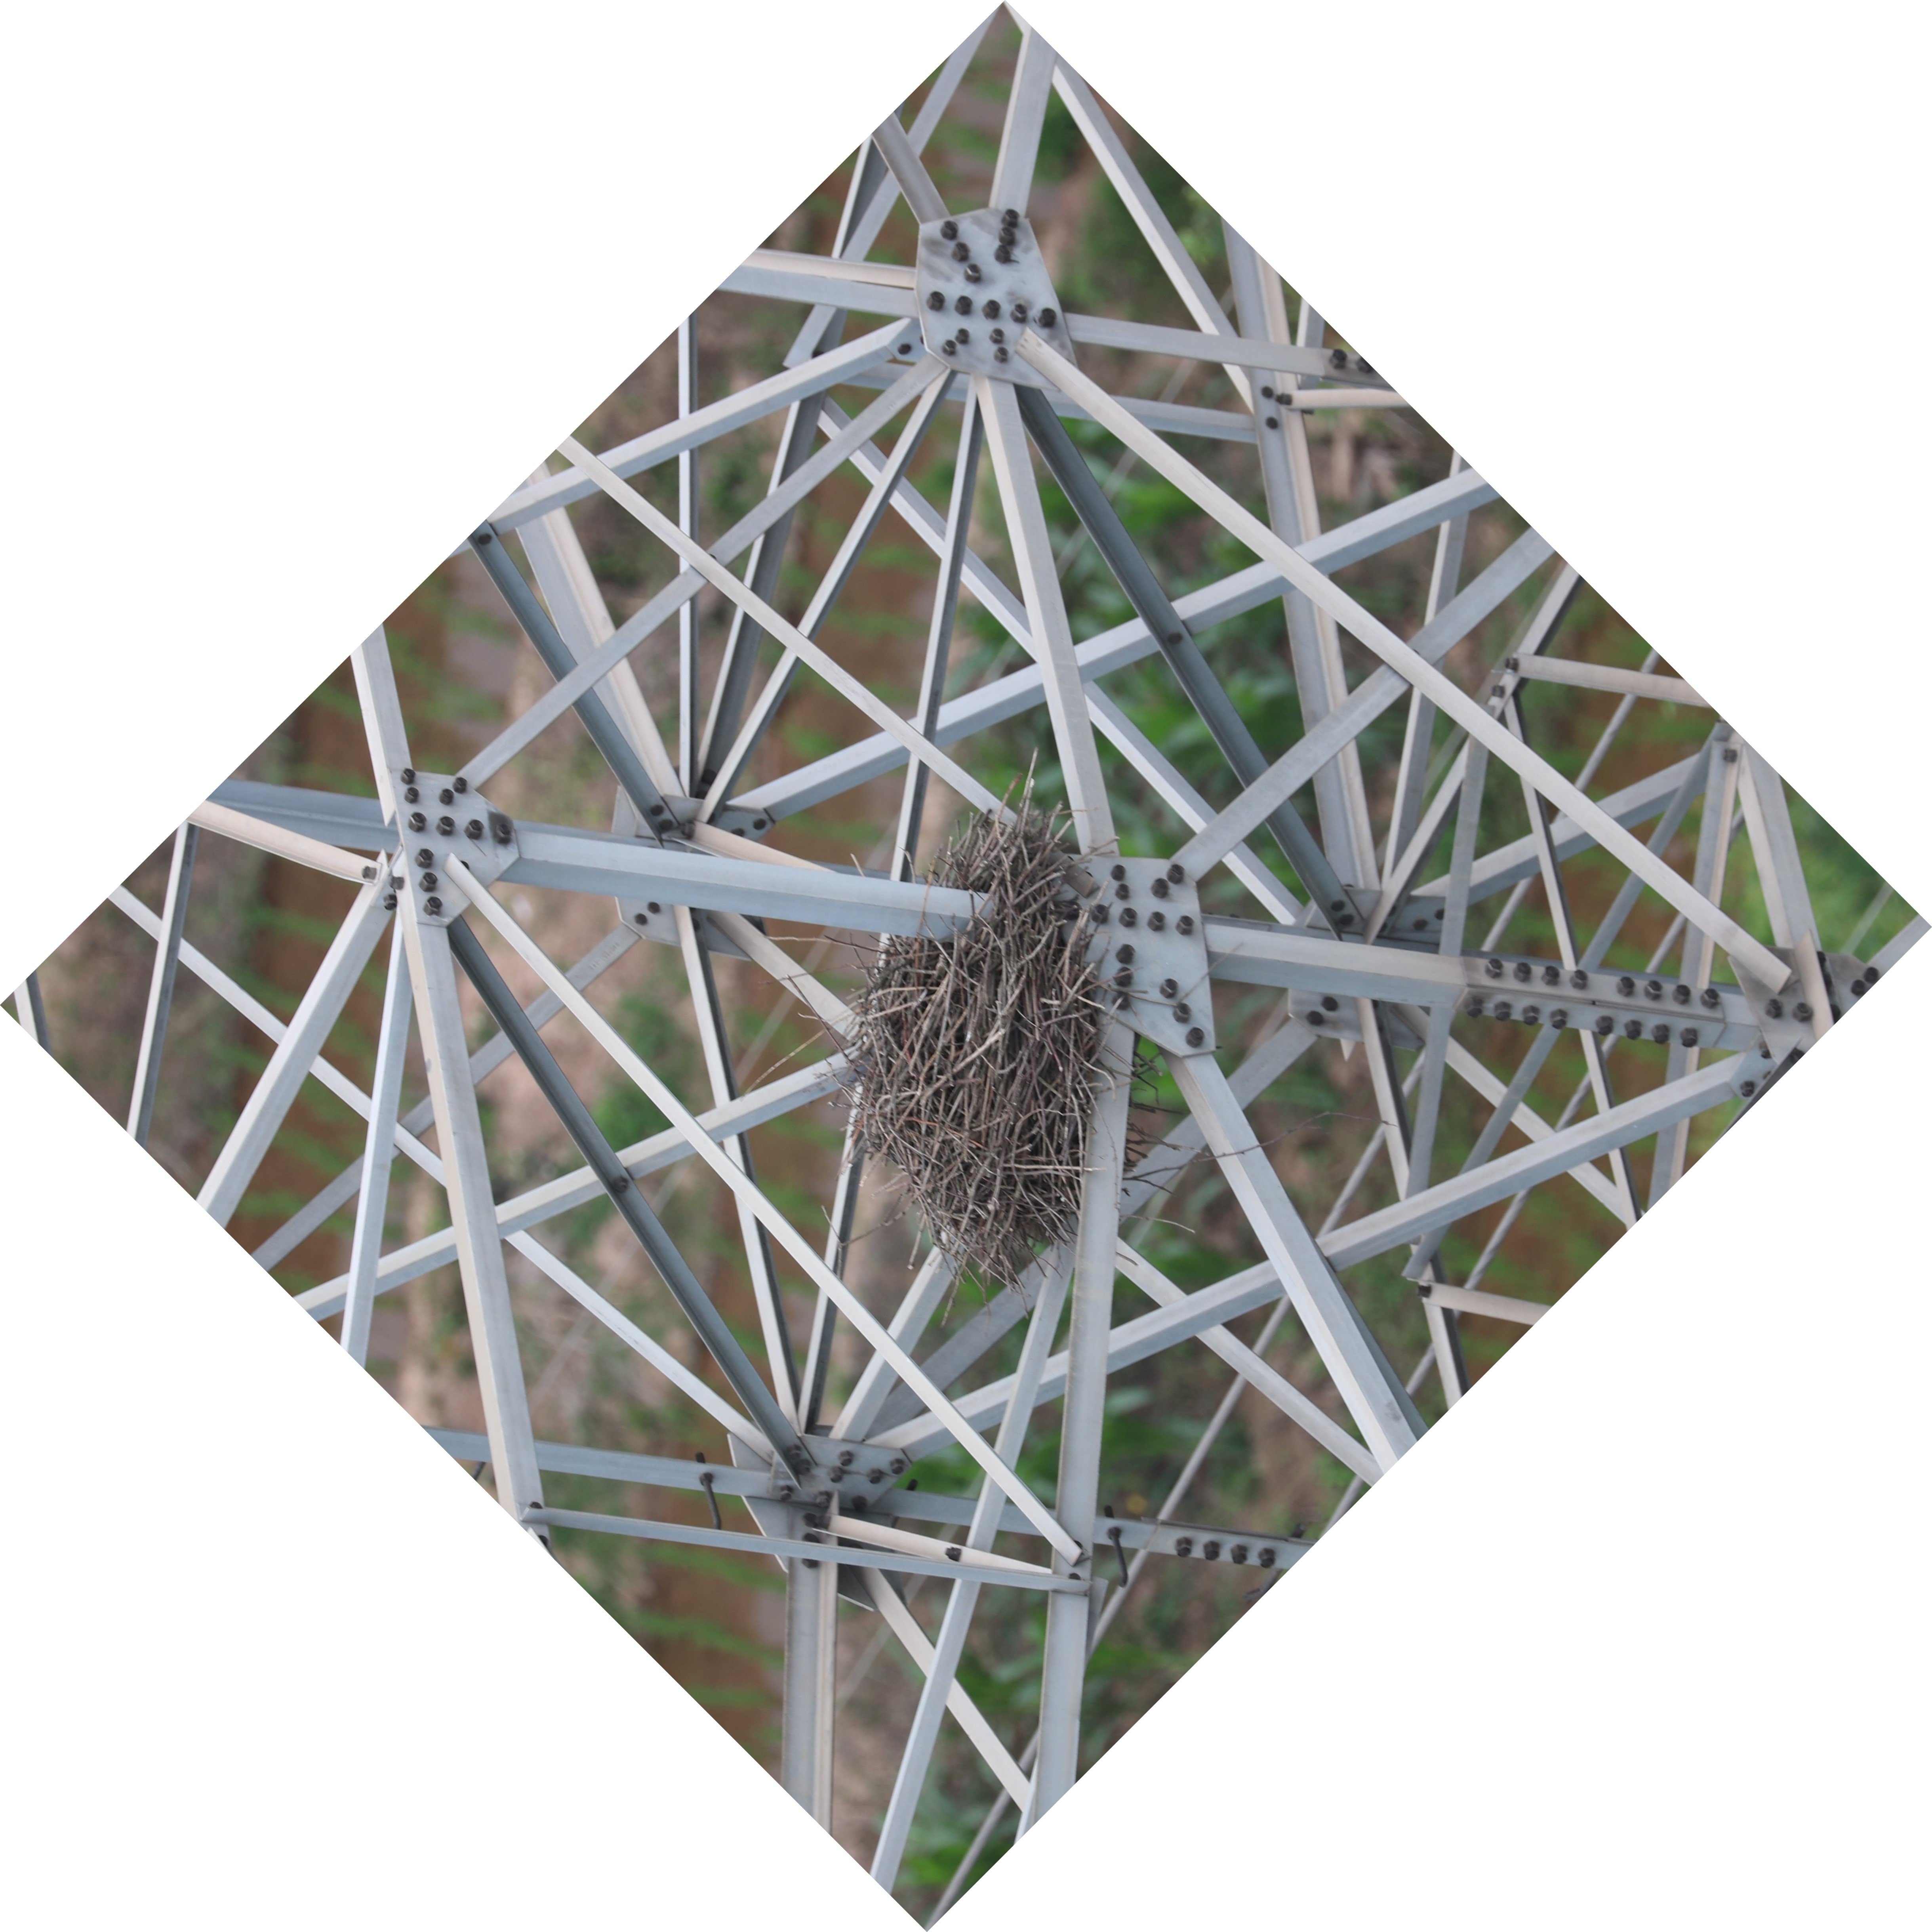niaowo: (782, 796, 1152, 1292)
